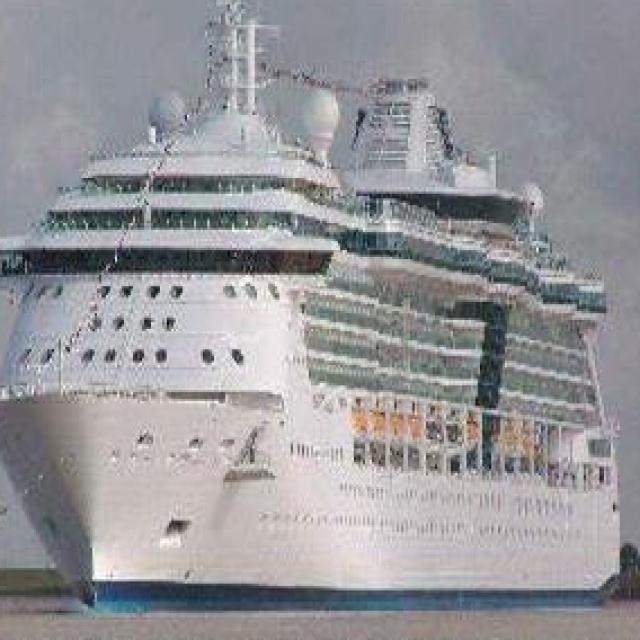passenger ship: (0, 0, 620, 606)
